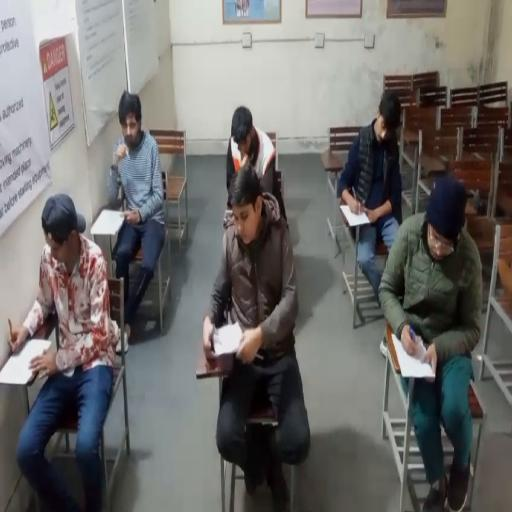paper: (0, 338, 54, 386), (395, 333, 436, 379), (211, 320, 243, 356), (91, 208, 127, 236), (340, 203, 370, 227)
